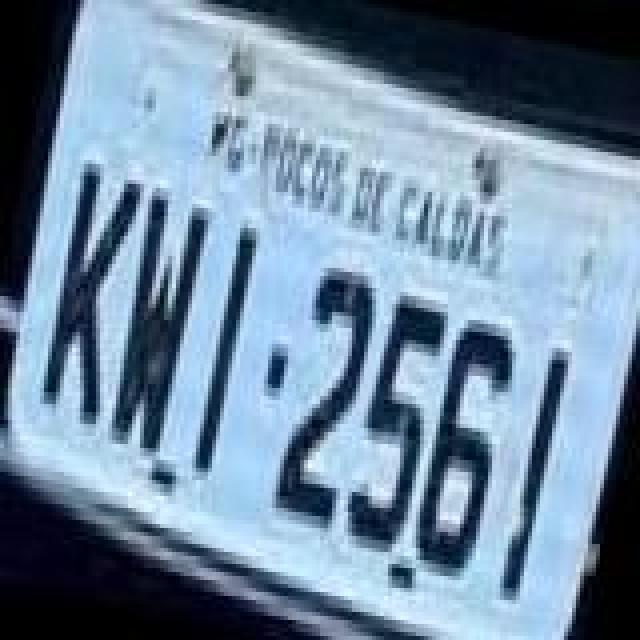1: (492, 346, 572, 614), (184, 220, 264, 484)
2: (268, 262, 388, 538)
5: (332, 288, 452, 560)
6: (404, 312, 524, 584)
K: (28, 160, 148, 432)
W: (96, 180, 216, 460)
